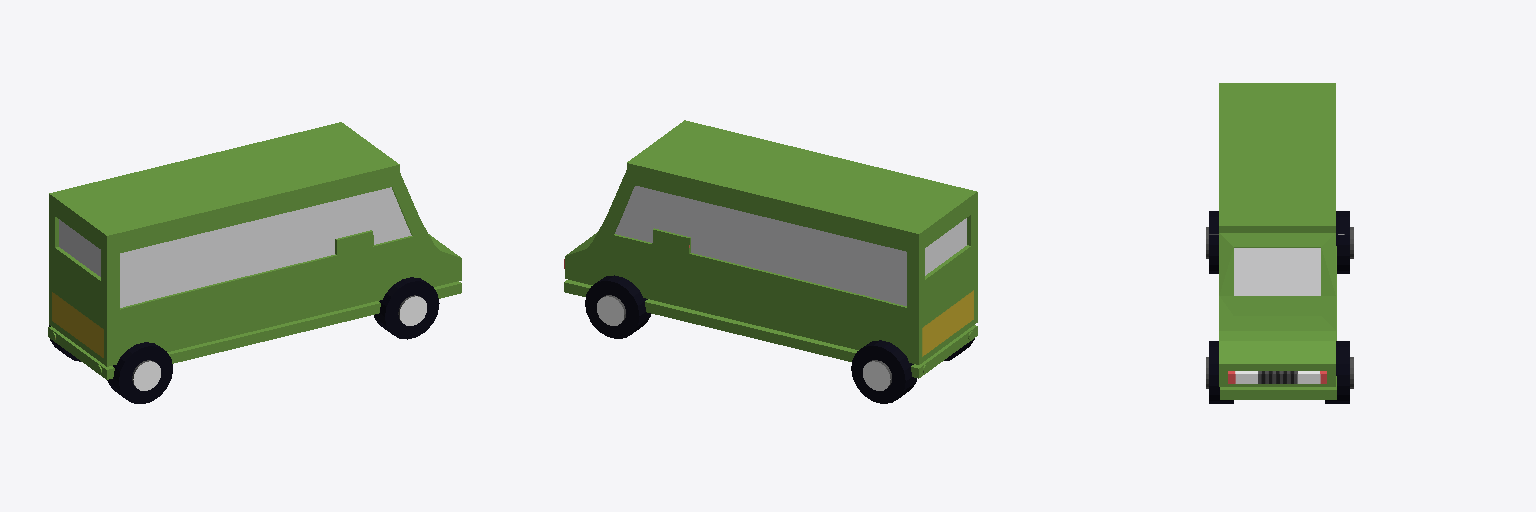
3 renders of one model, left to right at view 1: azimuth 30°, elevation 25°; view 2: azimuth 150°, elevation 25°; view 3: azimuth 270°, elevation 25°, orthographic.
Visible parts, largest first — view 1: Object145; view 2: Object145; view 3: Object145.
Boxes of the visible parts, box(x1,y1,x2,y2) form: Object145: box(48, 122, 461, 403); Object145: box(564, 120, 977, 403); Object145: box(1206, 83, 1353, 403).
Size of the model in its own units: 523 by 238 by 185.
Materials: 1 (1 with a texture image).